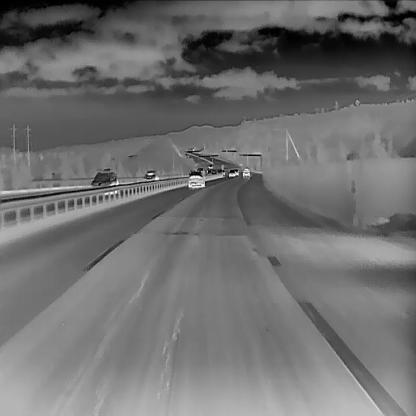car: (90, 168, 118, 194), (186, 170, 205, 188), (142, 168, 160, 184), (242, 167, 249, 176), (228, 168, 235, 177)
